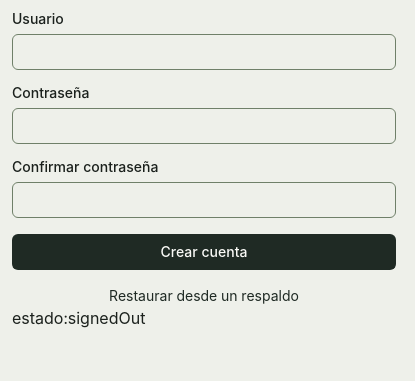
Test: SetupOwnerForm › muestra el texto por campo cuando el backend devuelve validation password
The width and height of the screenshot is (415, 381).
Type "dueña" into the field labelled "Usuario" at (204, 52), box [12,34,396,70]
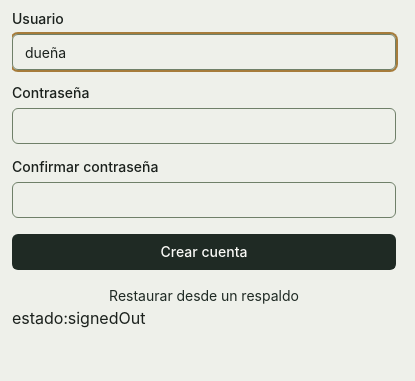
Type "clave-larga-1" into the password field labelled "Contraseña" at (204, 126), box [12,108,396,144]
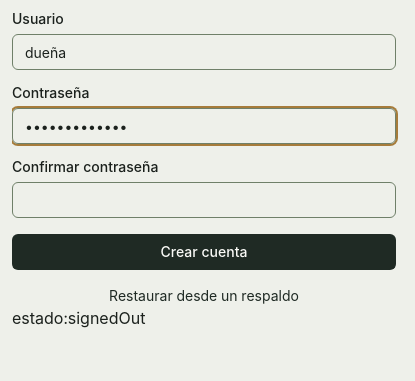
Type "clave-larga-1" into the password field labelled "Confirmar contraseña" at (204, 200), box [12,182,396,218]
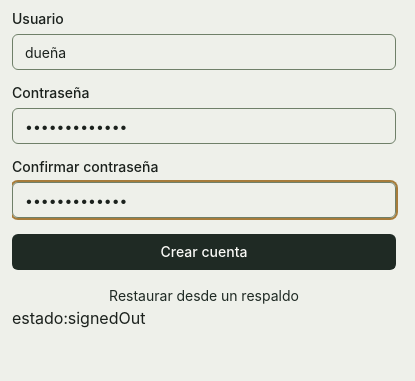
Click the button "Crear cuenta" at (204, 252), box [12,234,396,270]
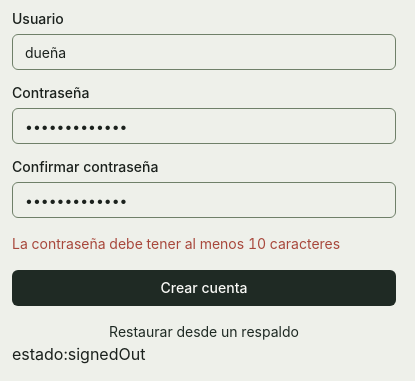
Check: the message reads "La contraseña debe tener al menos 10 caracteres", box [12,235,340,252]
